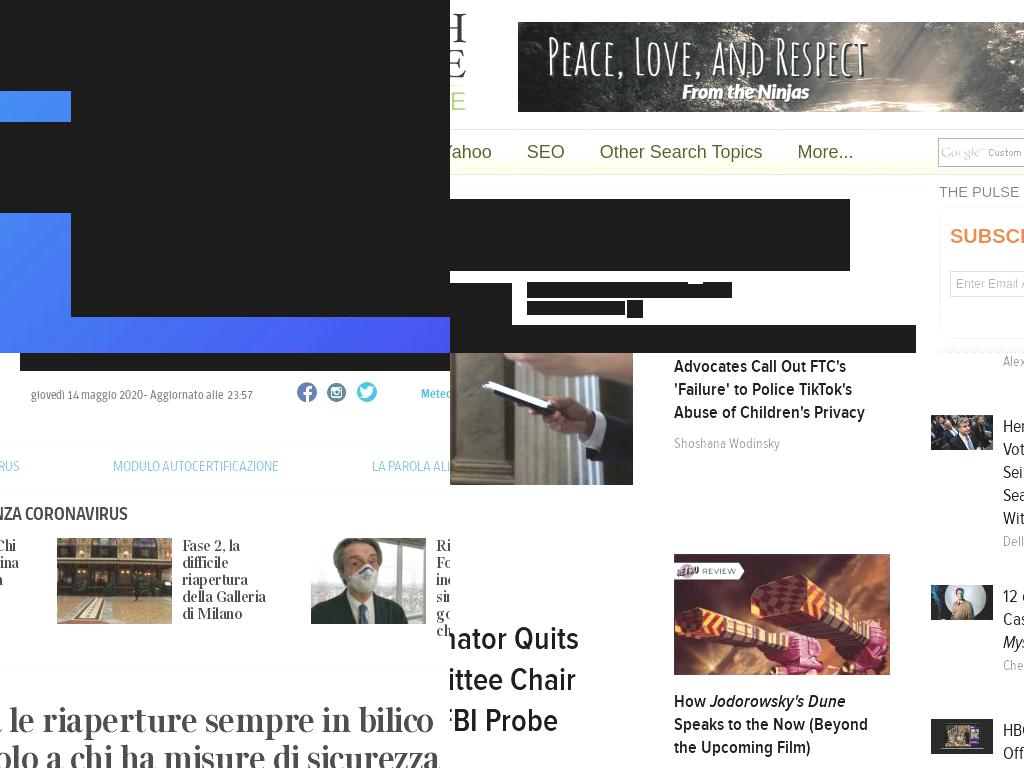button: (450, 620, 597, 744), (674, 354, 890, 424), (674, 690, 890, 759), (20, 353, 450, 377), (56, 538, 172, 624), (311, 538, 427, 624), (582, 130, 780, 174), (780, 130, 871, 174), (113, 456, 280, 477), (509, 130, 582, 174), (674, 431, 780, 456), (450, 130, 509, 174), (931, 415, 993, 450), (931, 585, 993, 620), (931, 719, 993, 754), (371, 456, 450, 477), (0, 456, 21, 477), (674, 553, 890, 554)
field: (938, 138, 1024, 167), (950, 271, 1024, 297)
heading: (450, 199, 850, 271), (450, 620, 597, 744), (0, 700, 434, 741), (674, 354, 890, 424), (0, 738, 440, 768), (674, 714, 868, 758), (181, 537, 248, 589), (710, 691, 846, 712), (0, 537, 19, 623), (950, 225, 1024, 247), (181, 588, 266, 606), (939, 184, 1024, 200), (181, 605, 242, 623), (674, 691, 710, 712)
image: (71, 0, 450, 317), (518, 22, 1024, 112), (674, 553, 890, 714), (56, 538, 172, 624), (311, 538, 427, 624), (20, 353, 450, 371), (931, 415, 993, 450), (931, 585, 993, 620), (931, 719, 993, 754), (627, 300, 643, 318), (686, 284, 704, 298)
link: (543, 301, 625, 315), (420, 385, 450, 401)
text: (0, 685, 450, 694), (0, 501, 128, 528), (66, 387, 227, 402), (674, 435, 780, 452), (527, 282, 625, 298), (624, 282, 675, 298), (30, 387, 67, 402), (703, 282, 732, 298), (226, 387, 253, 402), (1002, 354, 1024, 370), (1002, 534, 1024, 550), (1002, 658, 1024, 674), (527, 301, 543, 315), (675, 282, 688, 298)
